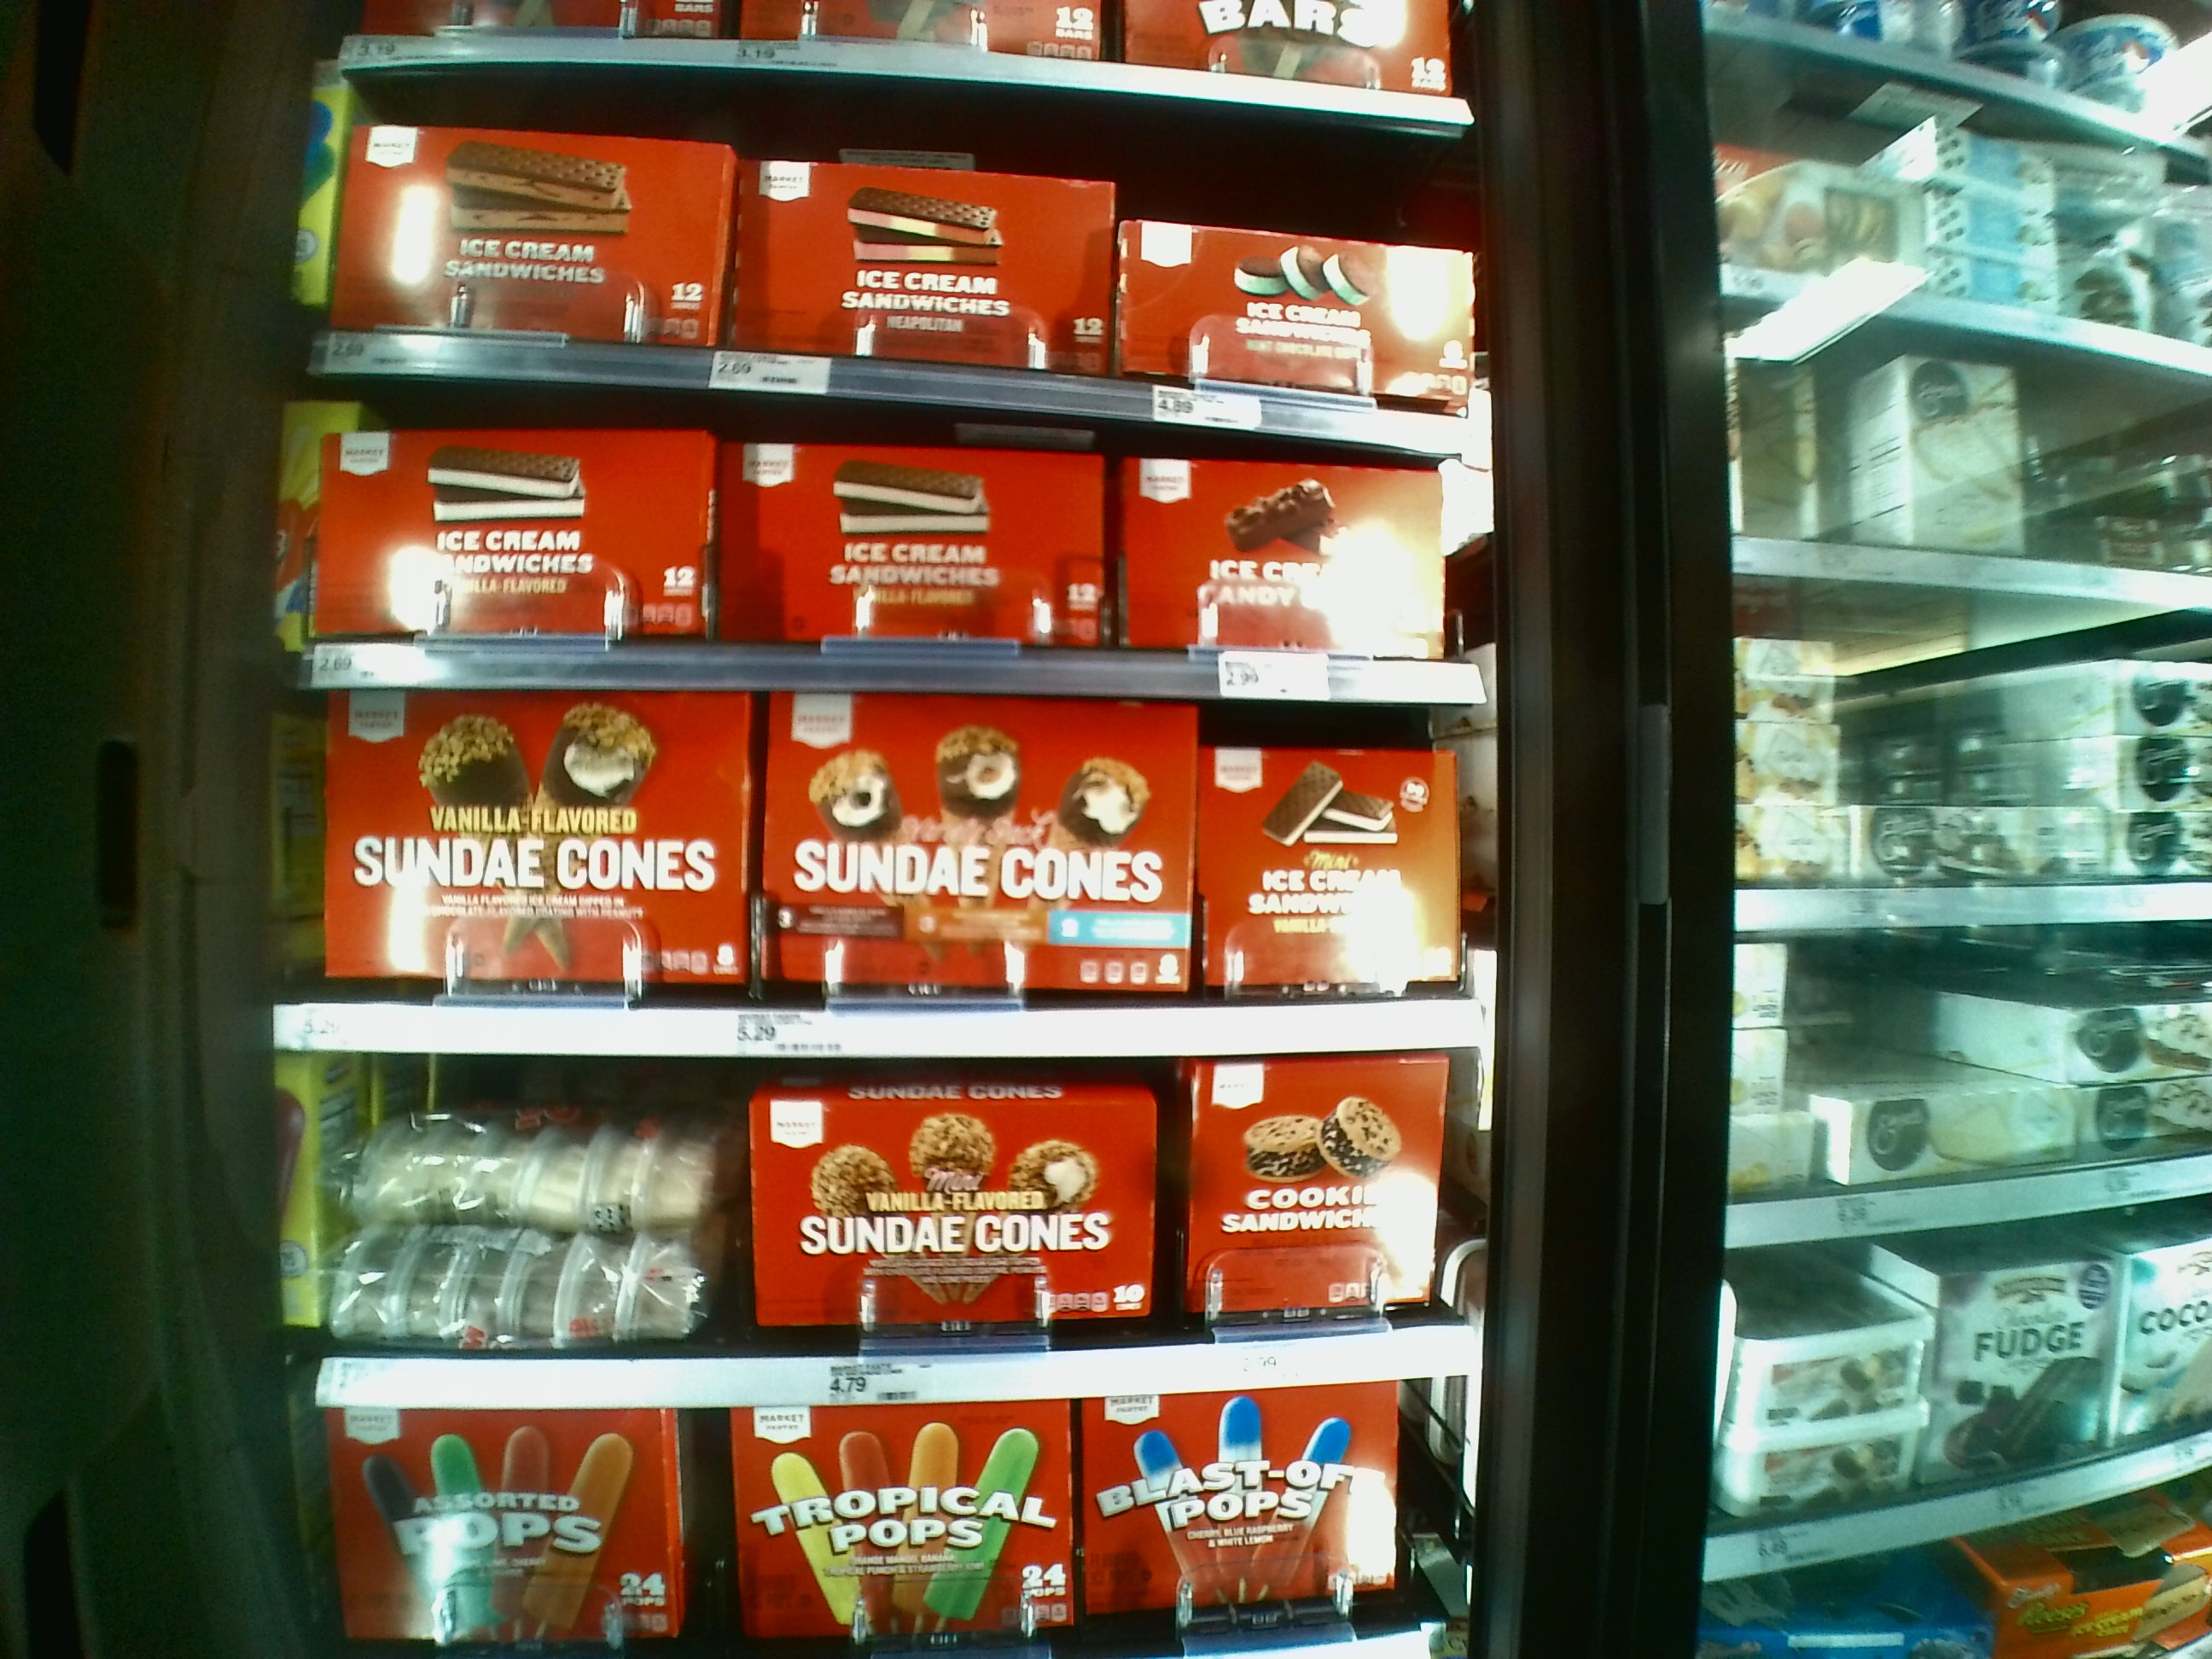shelf: (294, 701, 1514, 1056), (333, 64, 1480, 432), (314, 1058, 1470, 1406), (308, 397, 1500, 704)
